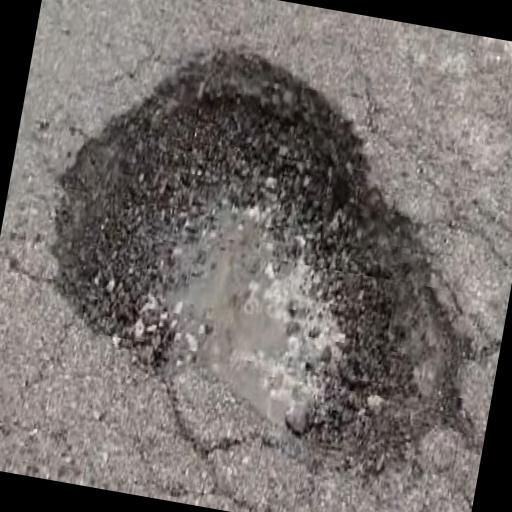pothole: (11, 10, 512, 500)
